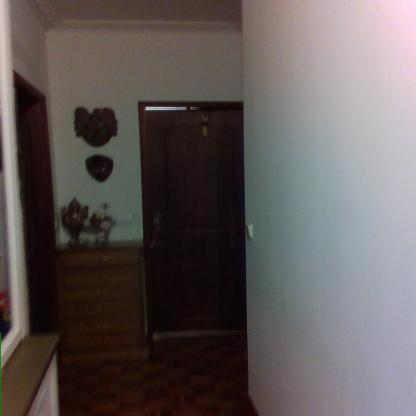closed: (121, 95, 272, 340)
